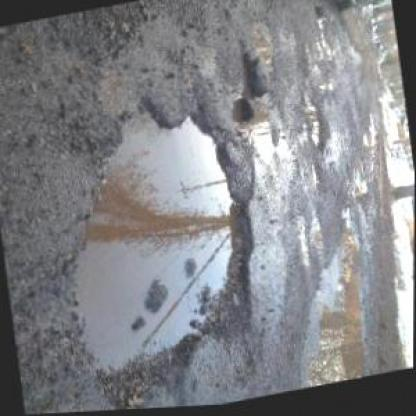pothole: (50, 83, 280, 412), (302, 104, 330, 155), (251, 21, 277, 72), (254, 122, 280, 169)
